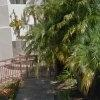Tree: (52, 7, 100, 100)
